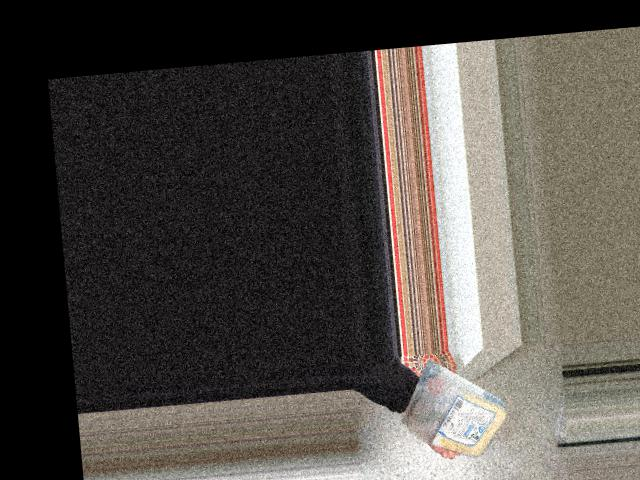cheese: (407, 369, 508, 461)
